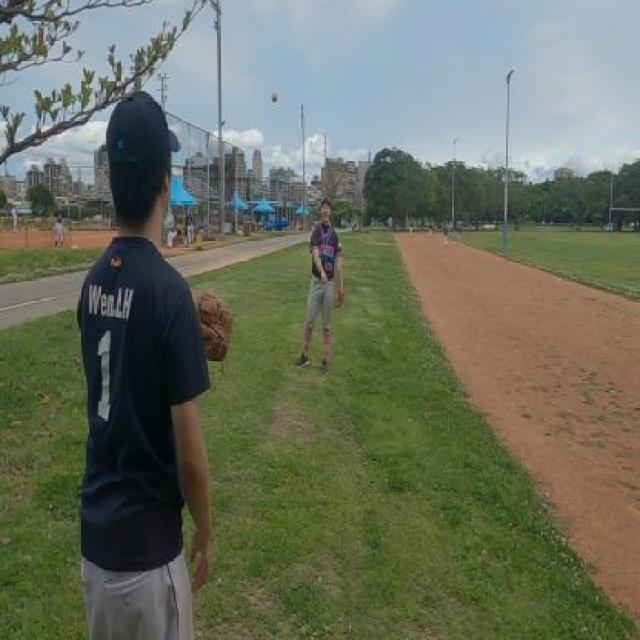baseball: (271, 91, 278, 103)
